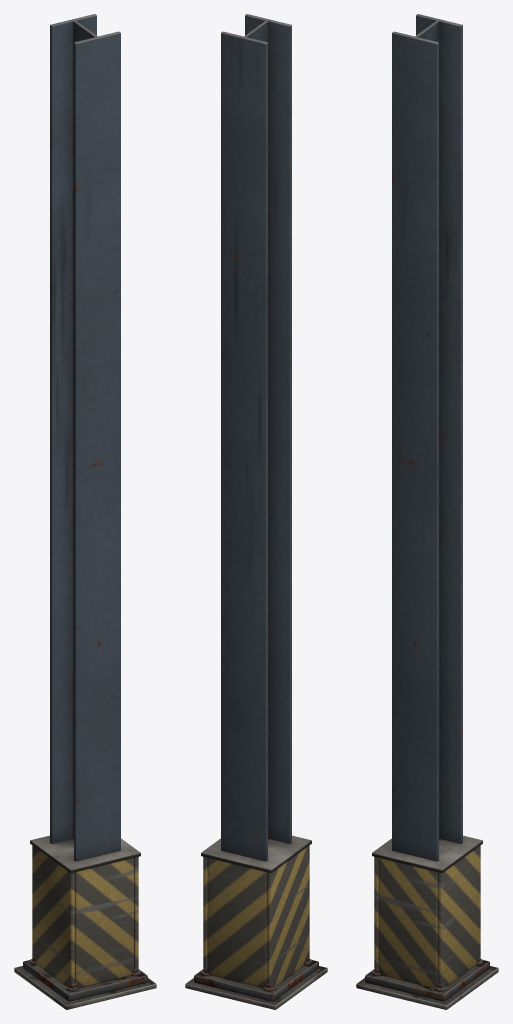
File: column_base.fbx
3 views of the same model, side by side, from view 1: azimuth 30°, elevation 25°; view 2: azimuth 150°, elevation 25°; view 3: azimuth 330°, elevation 25° (orthographic).
Parts seen in each view (by area): view 1: Body; view 2: Body; view 3: Body.
Boxes of the visible parts, x1,y1,x2,y2 form: Body: [14, 14, 156, 1009]; Body: [185, 14, 327, 1009]; Body: [356, 14, 498, 1009].
Bounding box in the file's own units: 3.2 × 32 × 3.2.
1 material, 1 textured.
